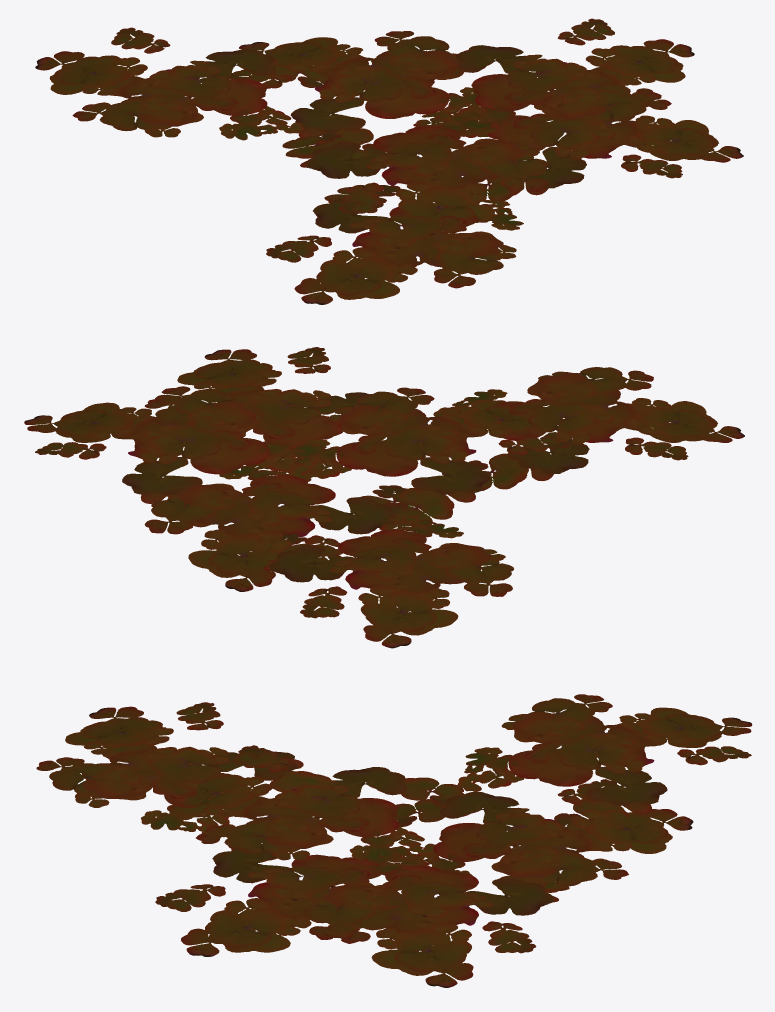
3 views of the same model, one above another, from view 1: azimuth 30°, elevation 25°; view 2: azimuth 150°, elevation 25°; view 3: azimuth 270°, elevation 25° (orthographic). The views are drawn at different scales.
Parts seen in each view (by area): view 1: SM_DR_Sorrel_E_LOD0; view 2: SM_DR_Sorrel_E_LOD0; view 3: SM_DR_Sorrel_E_LOD0.
Boxes of the visible parts, x1,y1,x2,y2 form: SM_DR_Sorrel_E_LOD0: (35, 18, 743, 304); SM_DR_Sorrel_E_LOD0: (24, 347, 744, 648); SM_DR_Sorrel_E_LOD0: (36, 694, 752, 987).
Bounding box in the file's own units: 0.7674 × 0.0438 × 0.8227.
Materials: 1 (1 with a texture image).
